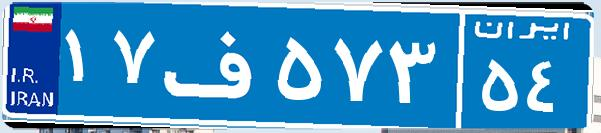1: (57, 26, 110, 107)
3: (385, 28, 445, 110)
4: (525, 38, 570, 115)
5: (273, 28, 330, 110), (475, 38, 525, 113)
7: (330, 28, 385, 110), (110, 28, 158, 105)
ف: (158, 15, 273, 115)
